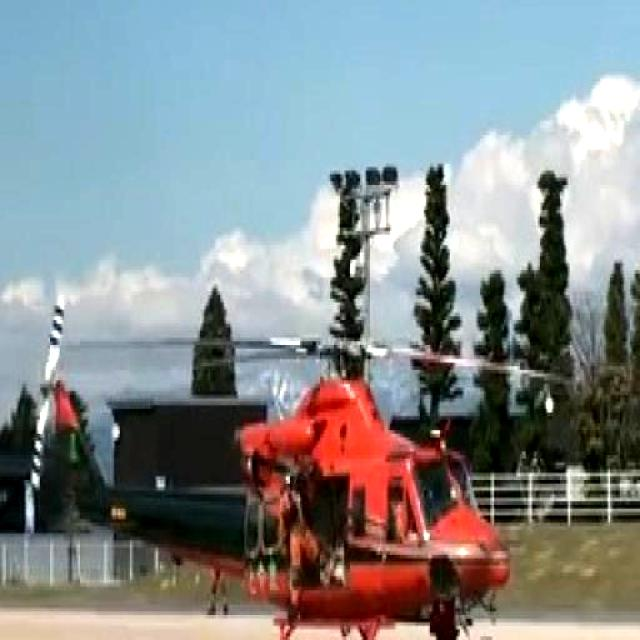drone: (38, 302, 559, 640)
